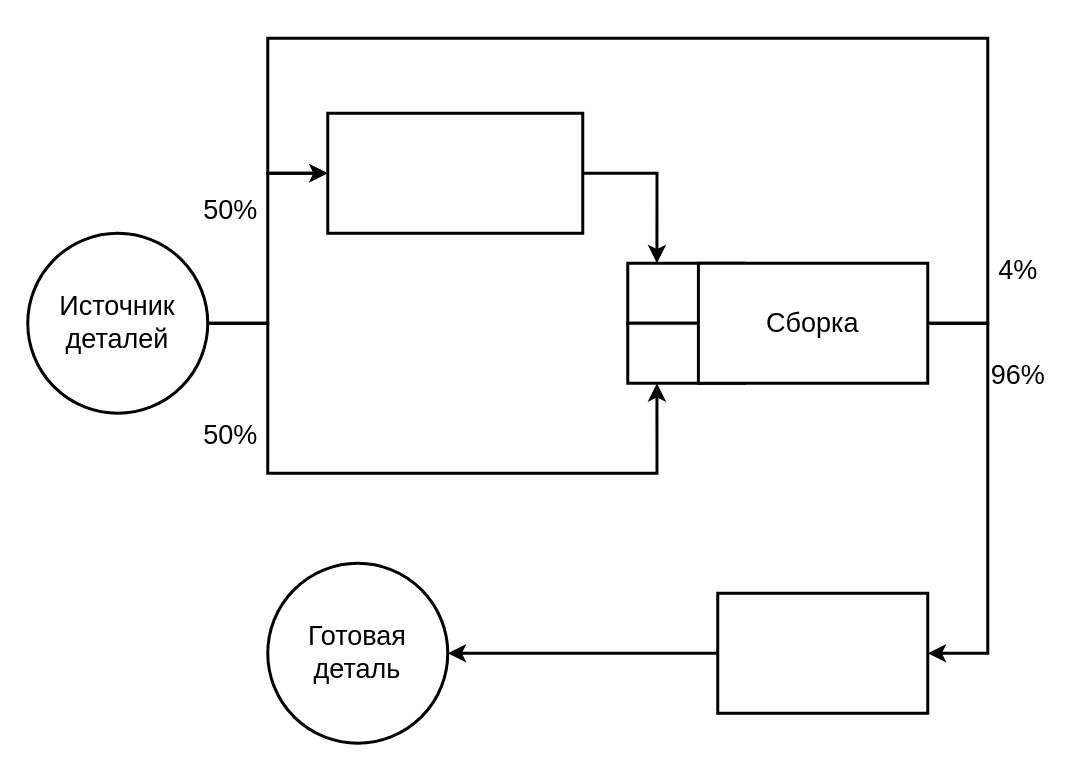
The diagram is 1080 pixels wide and 770 high, and some of its shapes have lost their labels. Here are the shapes that lost their labels. From the top down, the centre of each, then its label:
At (x=455, y=172): "Обработка".
At (x=822, y=652): "Регулировка".
